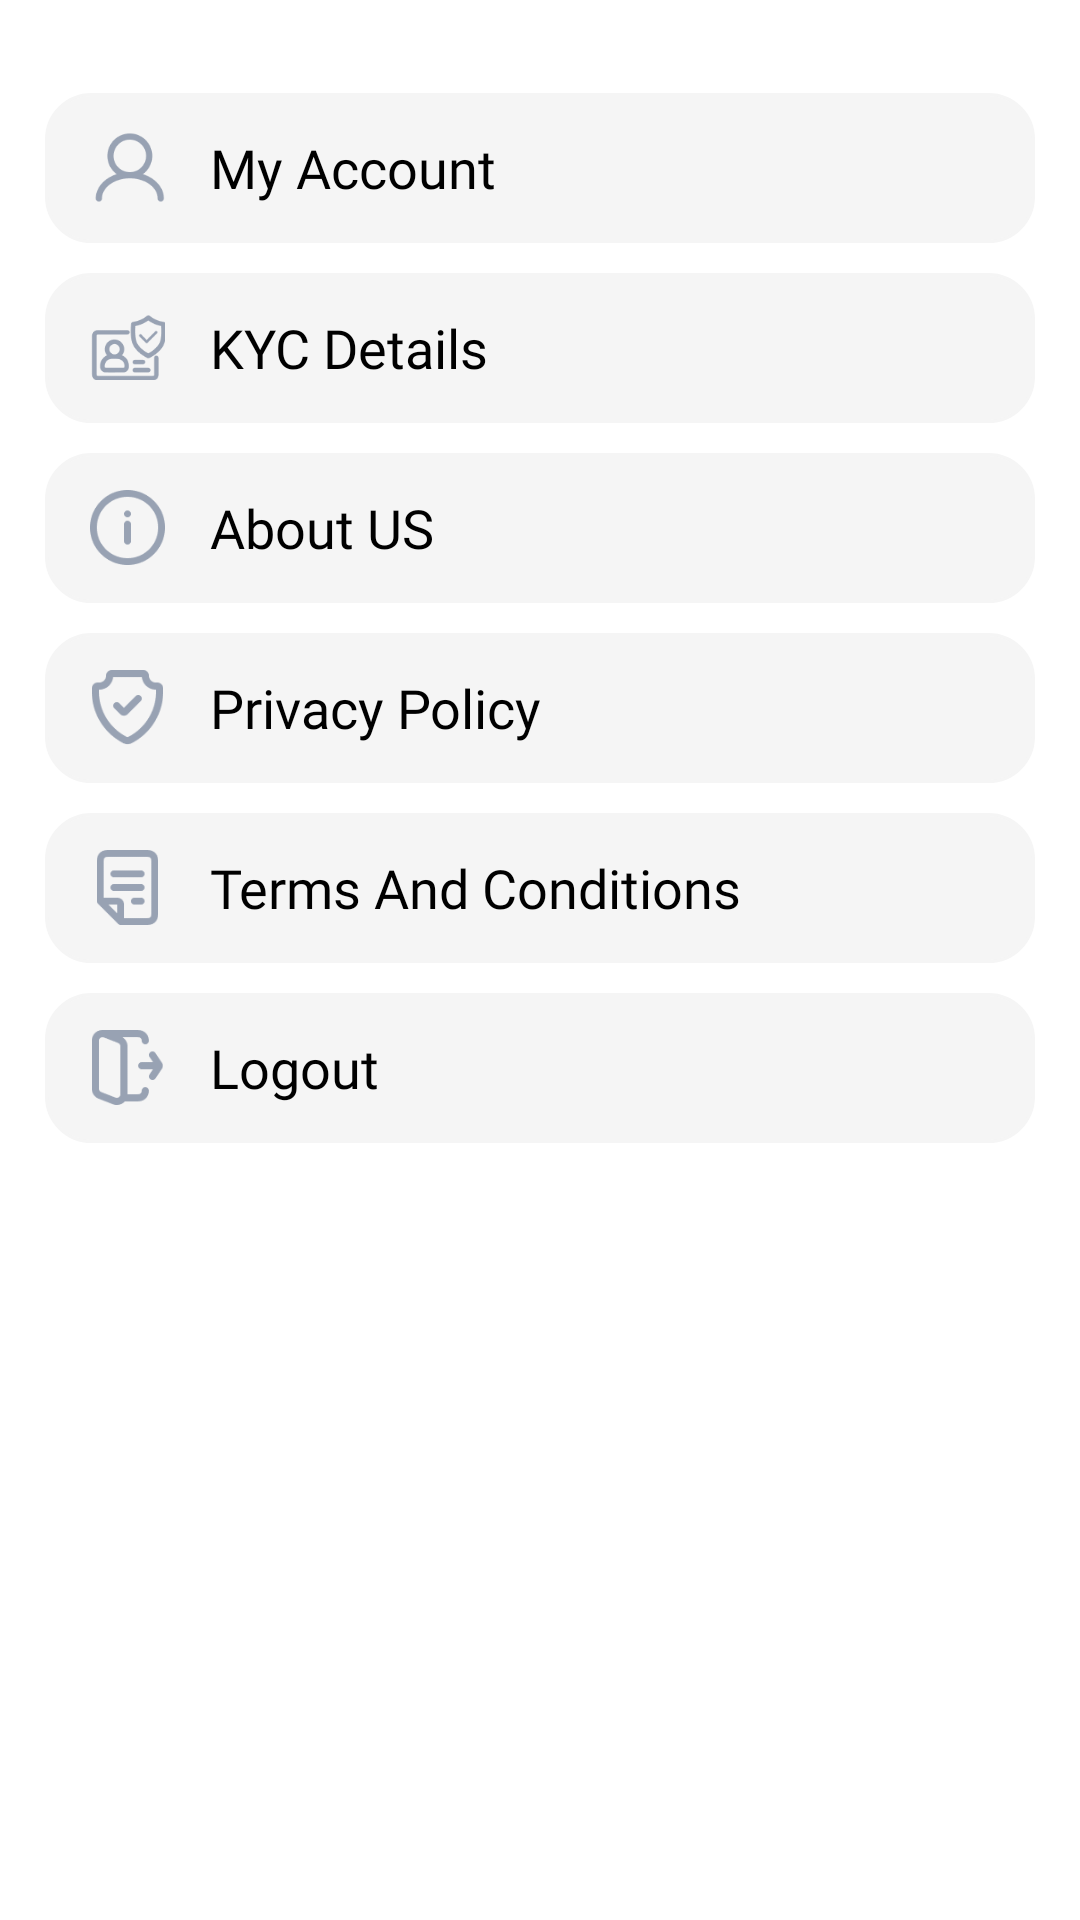

Icons on this 1080px x 1920px Android screen, each with the point to tap as (x=x, y=y):
doc: (x=127, y=887)
profile: (x=129, y=167)
